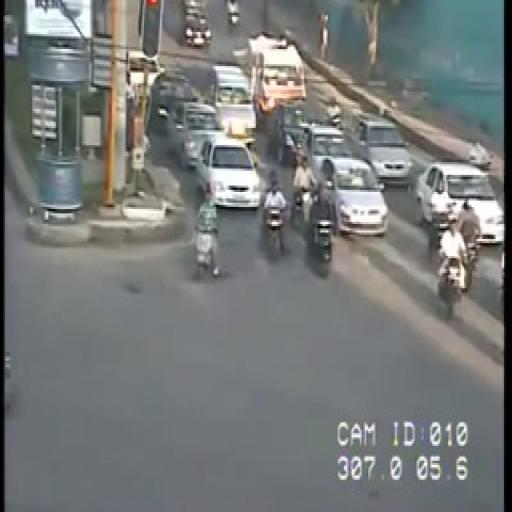Car: (420, 160, 506, 244), (317, 158, 389, 236), (248, 34, 307, 121), (200, 63, 256, 148), (199, 140, 262, 208), (350, 114, 412, 182), (298, 122, 356, 184), (171, 102, 221, 168), (149, 70, 198, 132), (271, 103, 310, 165), (127, 52, 164, 99), (181, 1, 212, 48)
Motor: (192, 184, 220, 282), (438, 218, 468, 308), (308, 174, 334, 262), (262, 178, 288, 254), (293, 155, 317, 228), (428, 185, 452, 255), (458, 203, 480, 274), (467, 140, 492, 170), (324, 98, 342, 127), (226, 0, 240, 27)
